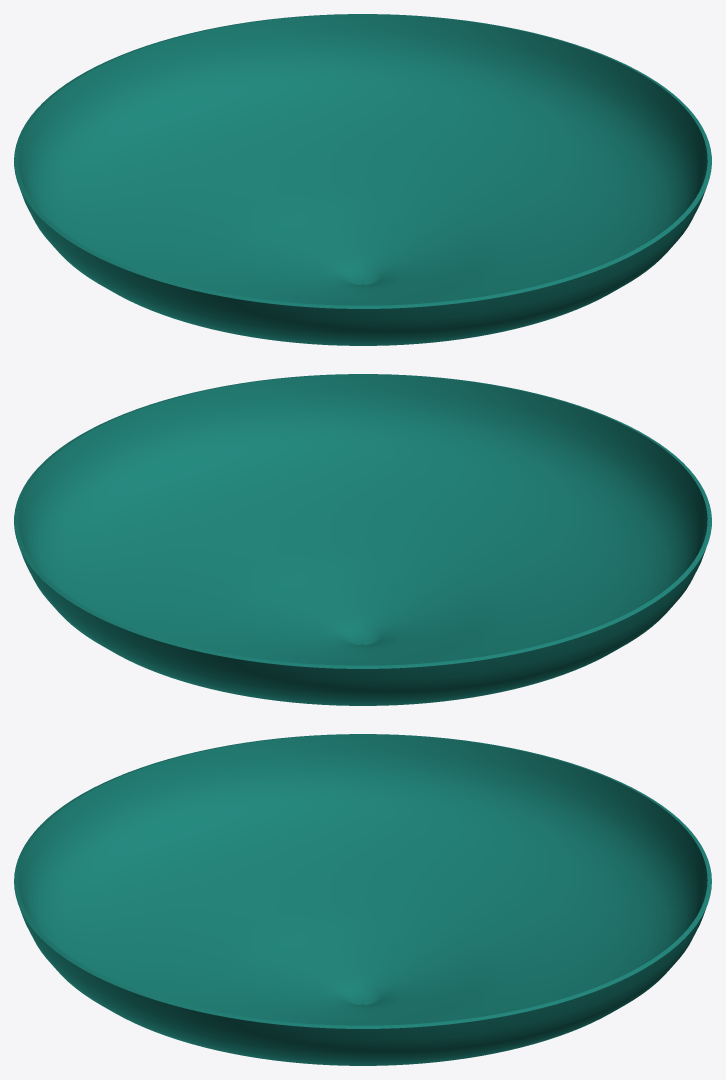
Rendered from Teller1.obj.
3 views of the same model, one above another, from view 1: azimuth 30°, elevation 25°; view 2: azimuth 150°, elevation 25°; view 3: azimuth 270°, elevation 25° (orthographic).
Visible parts, largest first — view 1: Circle_Circle.001; view 2: Circle_Circle.001; view 3: Circle_Circle.001.
Part boxes in pixels (<box>): Circle_Circle.001: <box>14,14,711,345</box>; Circle_Circle.001: <box>14,374,711,705</box>; Circle_Circle.001: <box>14,734,711,1065</box>.
Size of the model in its own units: 1.49 by 0.4028 by 1.49.
